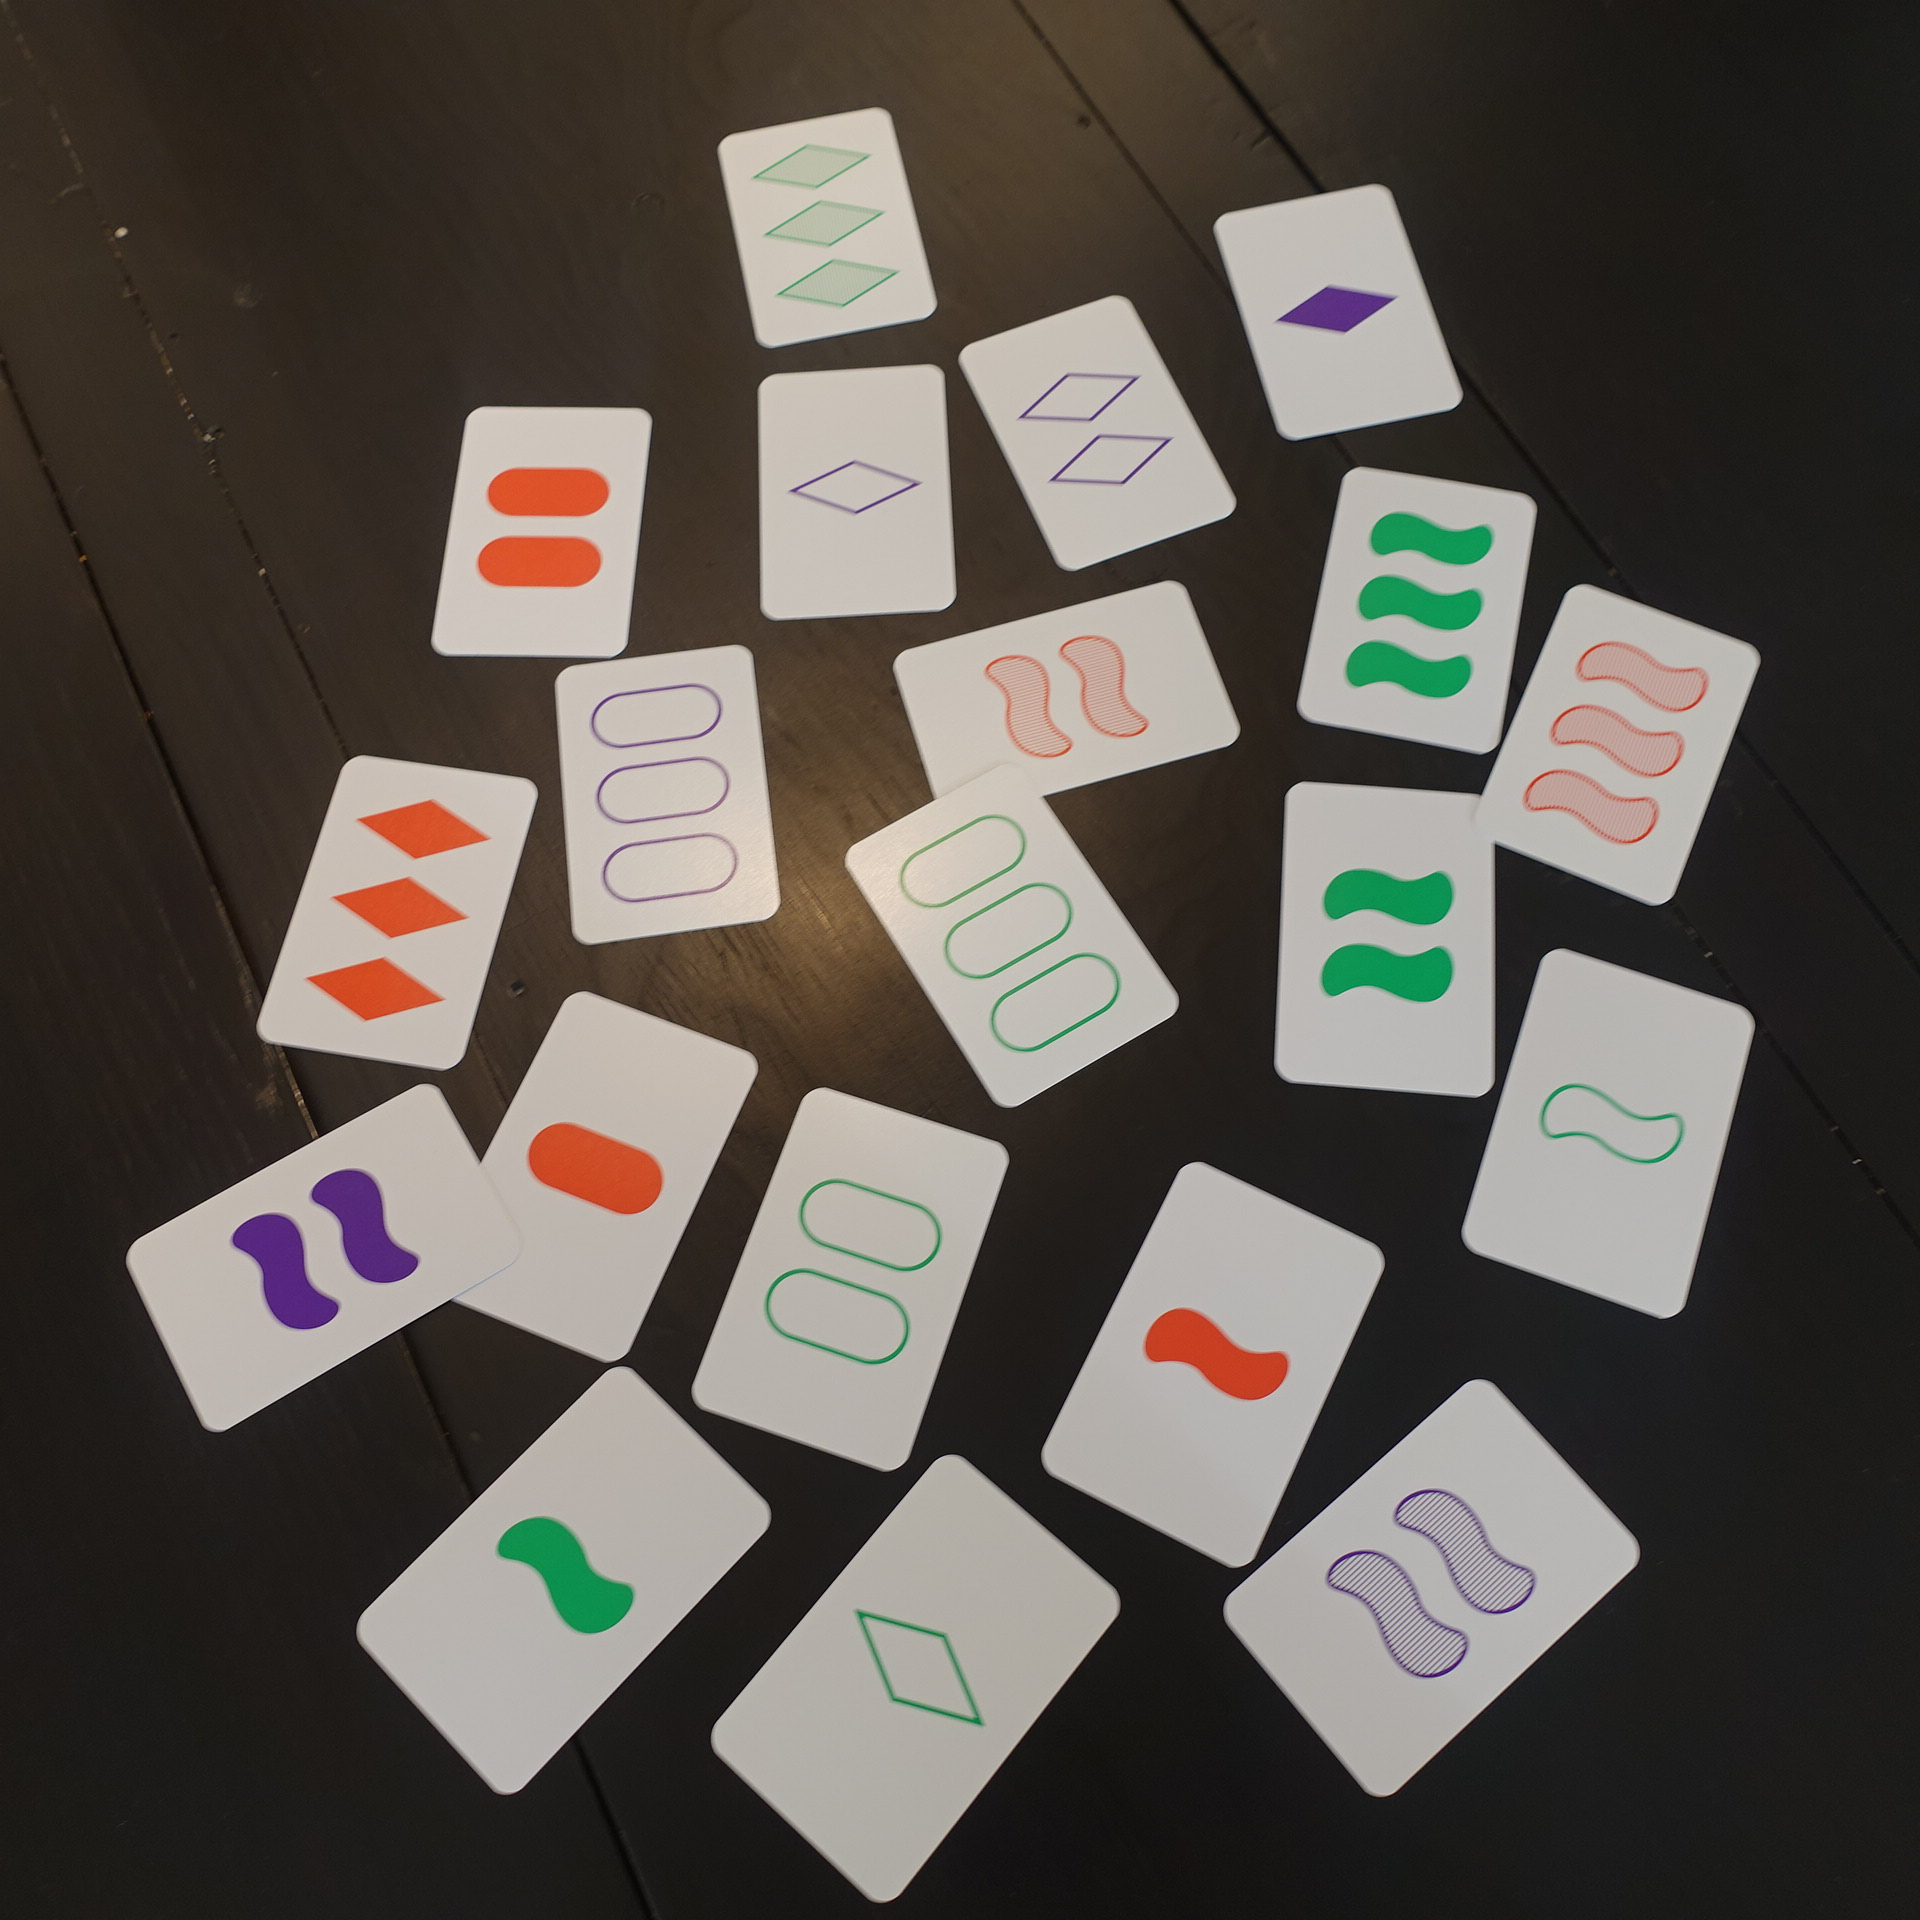c-2-f-d-r: (702, 1442, 1127, 1908), (1204, 1363, 1649, 1806), (341, 1359, 781, 1806), (107, 1078, 535, 1444), (1036, 1153, 1400, 1577), (680, 1080, 1016, 1480), (438, 985, 768, 1371), (833, 756, 1187, 1116), (1454, 937, 1771, 1333), (1459, 577, 1771, 920), (246, 744, 543, 1081), (884, 575, 1252, 825), (949, 281, 1245, 577), (1262, 775, 1516, 1108), (1280, 457, 1542, 768), (540, 640, 791, 951), (1199, 176, 1475, 452), (422, 397, 665, 672), (740, 355, 969, 629), (709, 100, 948, 355)
